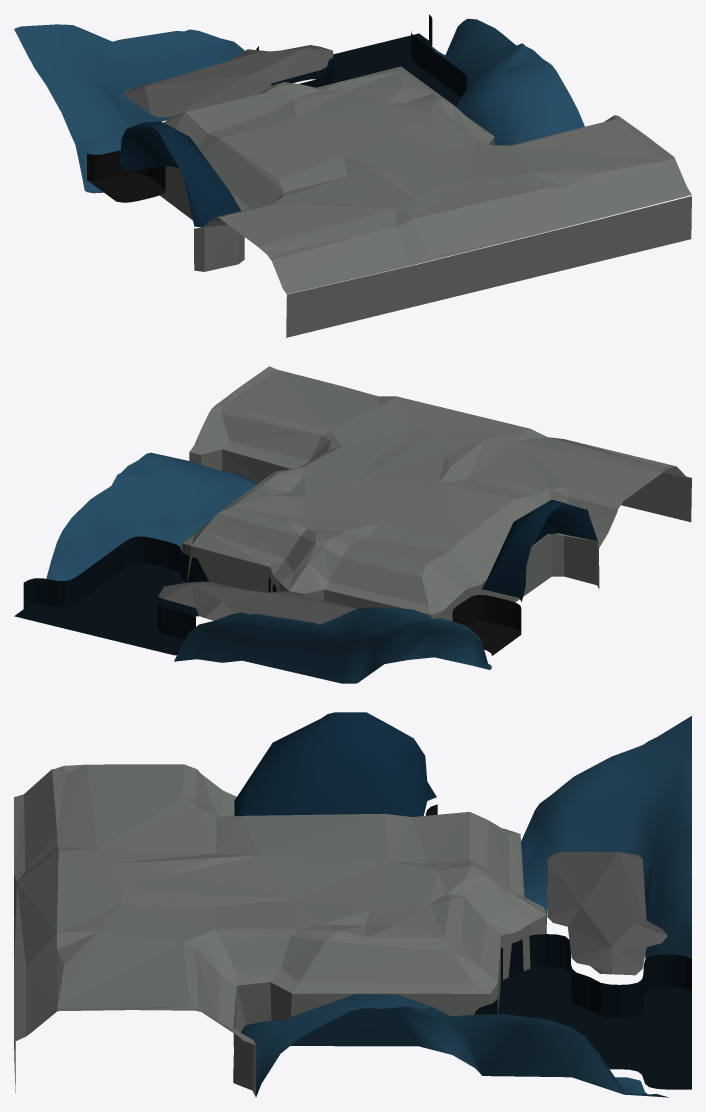
File: newshb-119.glb
The picture shows the model from 3 angles, top to bottom: view 1: azimuth 30°, elevation 25°; view 2: azimuth 150°, elevation 25°; view 3: azimuth 270°, elevation 25°; orthographic projection. The views are drawn at different scales.
Visible parts, largest first — view 1: newshb-119; view 2: newshb-119; view 3: newshb-119.
Part boxes in pixels (x1=…): newshb-119: x1=14, y1=14, x2=691, y2=337; newshb-119: x1=14, y1=366, x2=691, y2=683; newshb-119: x1=14, y1=712, x2=691, y2=1097.
Bounding box in the file's own units: 2 × 0.5488 × 2.33.
